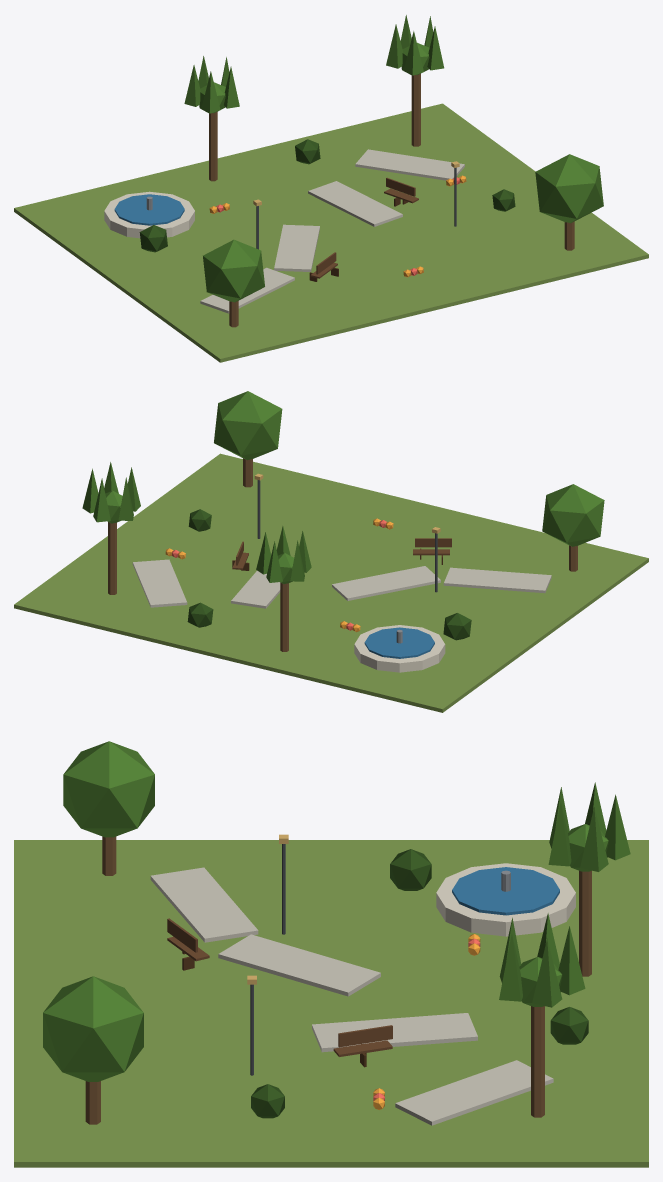
The model's file is landscape.park-standard.glb.
3 renders of one model, top to bottom at view 1: azimuth 30°, elevation 25°; view 2: azimuth 150°, elevation 25°; view 3: azimuth 270°, elevation 25°, orthographic. The views are drawn at different scales.
Visible parts, largest first — view 1: landscape.park-standard; view 2: landscape.park-standard; view 3: landscape.park-standard.
Boxes of the visible parts, x1=… form: landscape.park-standard: x1=14, y1=15, x2=648, y2=362; landscape.park-standard: x1=14, y1=391, x2=648, y2=712; landscape.park-standard: x1=14, y1=741, x2=648, y2=1167.
Bounding box in the file's own units: 24 × 6.82 × 20.
